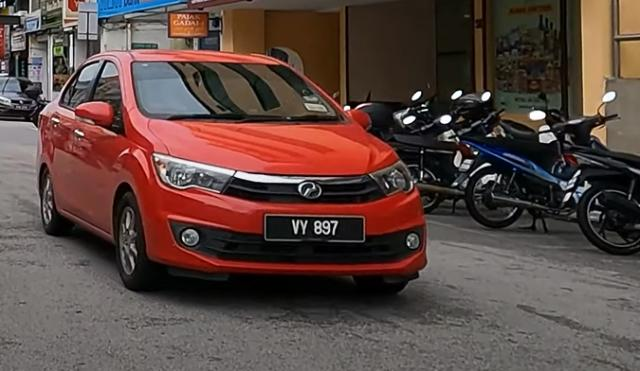License_Plate: (263, 214, 367, 245)
car: (37, 49, 430, 295)
